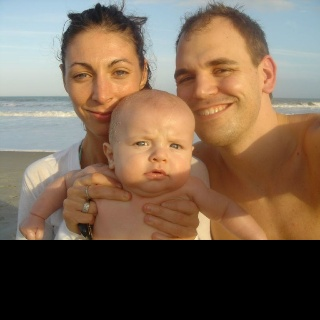without_mask: (173, 24, 262, 147), (112, 105, 195, 198)
